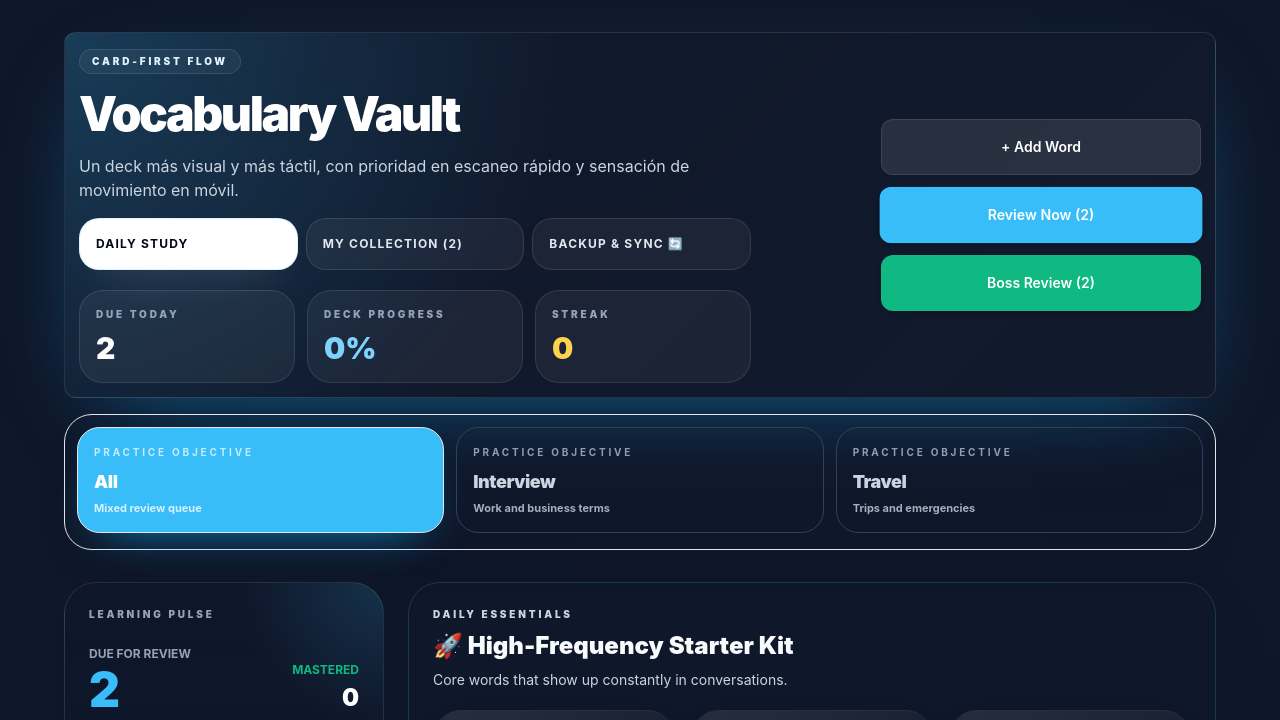
Test: VocabularyVaultView flows › objective mode: filters review queue by travel tags
Click the button "objective Travel": (933,452) [836,427,1203,533]
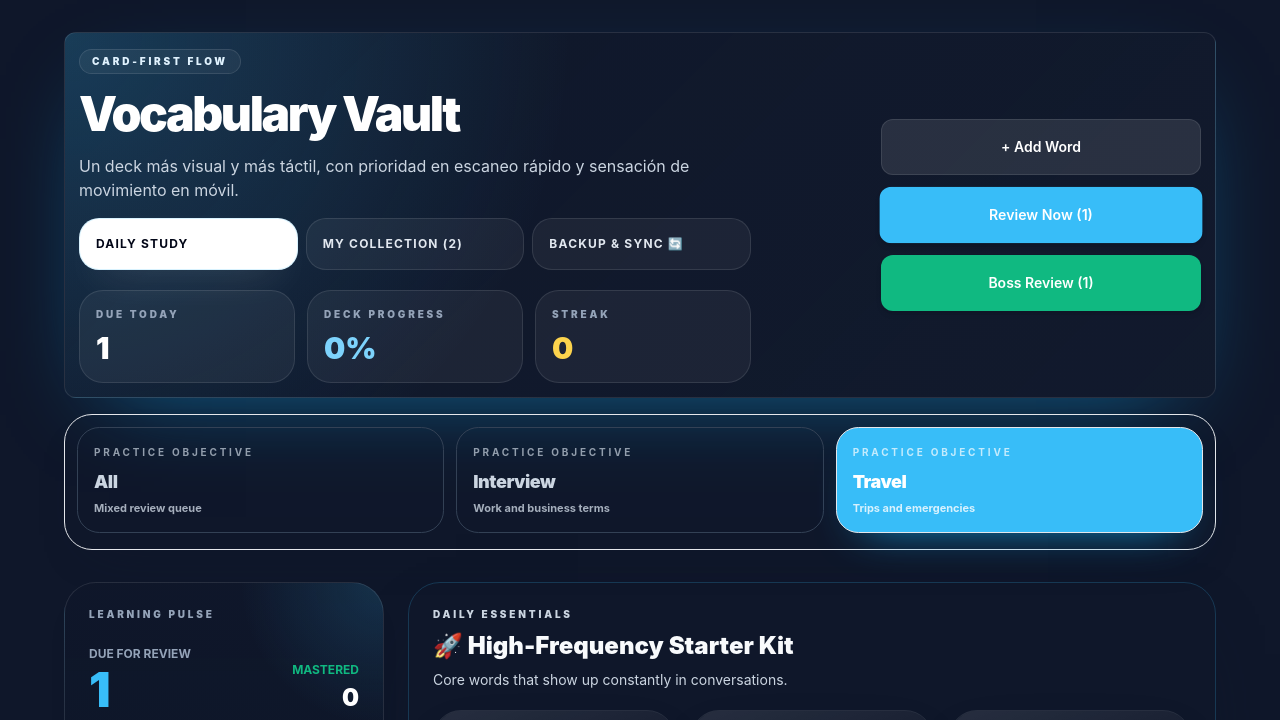
Click the button "Review Now (1)": (1041,215) [879,187,1203,243]
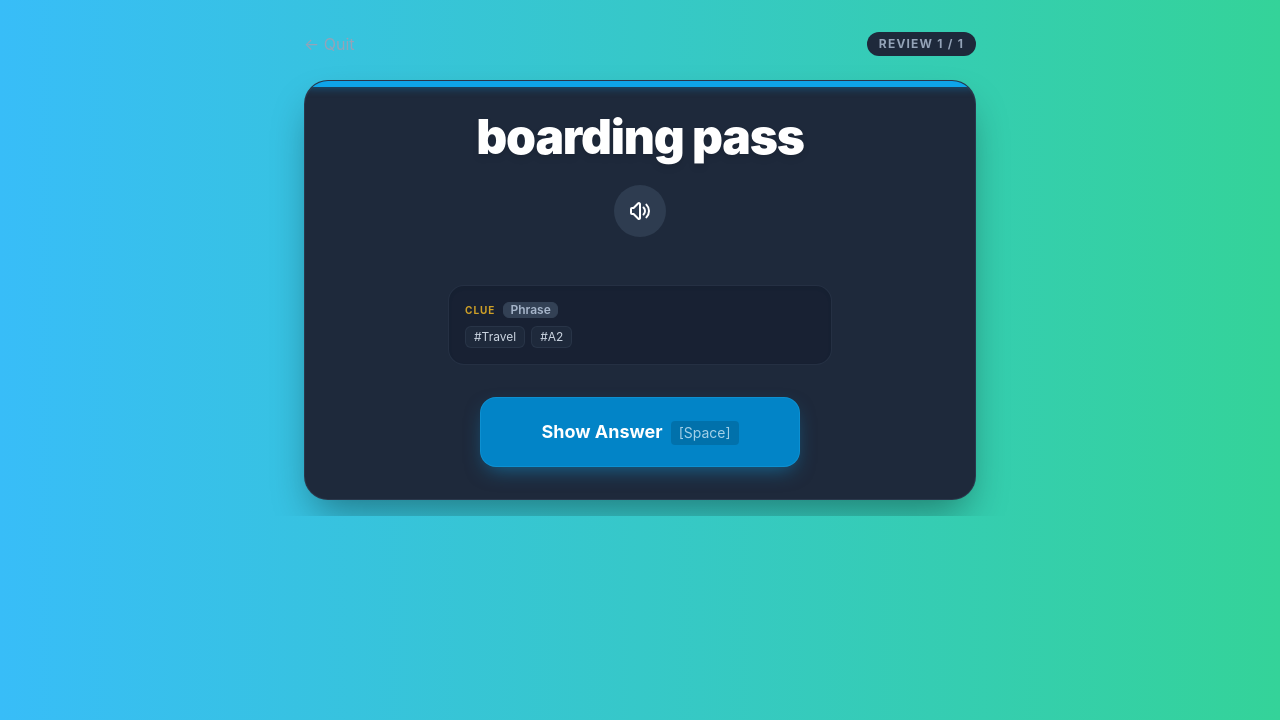
Expected: the heading "boarding pass" is shown, [476,113,804,161]
Expected: the text "Review 1 / 1" is shown, [867,32,976,56]
